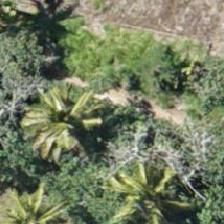coconut_tree: (14, 72, 104, 162), (101, 163, 191, 223)
